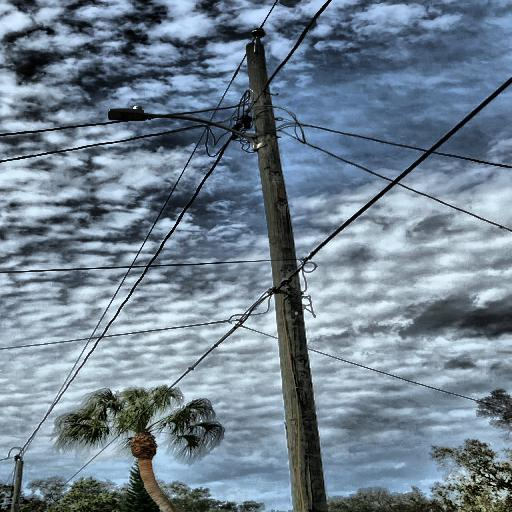insulator: (249, 26, 268, 38)
pole: (231, 36, 372, 512)
street light: (106, 106, 268, 154)
